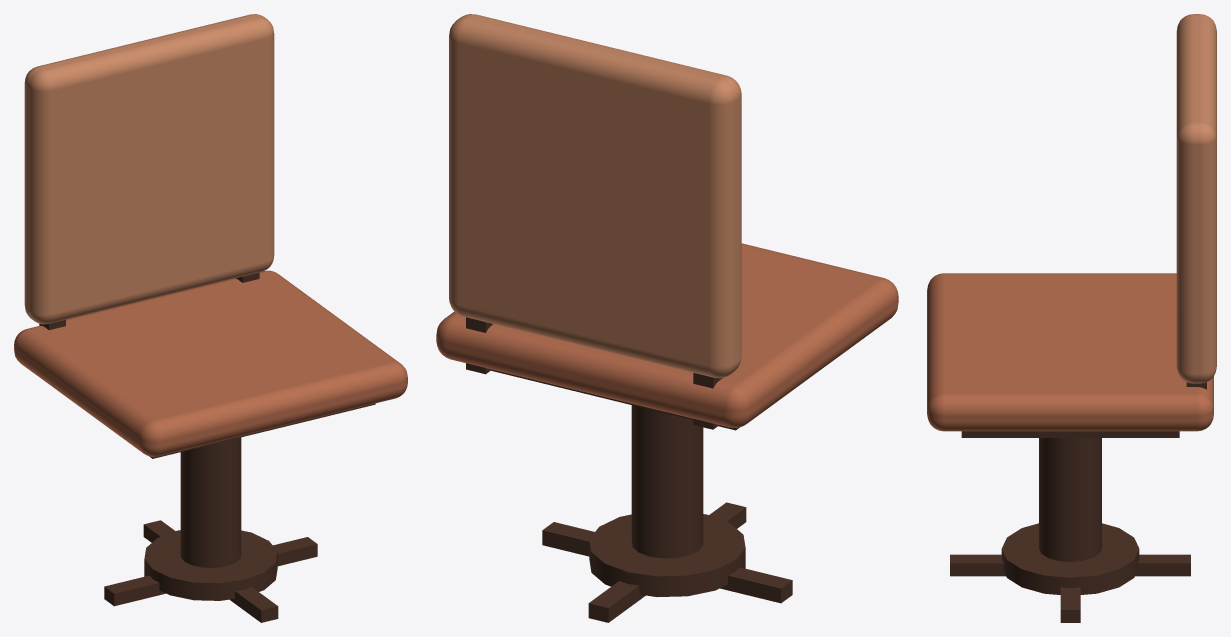
3 views of the same model, side by side, from view 1: azimuth 30°, elevation 25°; view 2: azimuth 150°, elevation 25°; view 3: azimuth 270°, elevation 25° (orthographic). The views are drawn at different scales.
Visible parts, largest first — view 1: chair-back, chair-seat, pedestal-column, pedestal-hub, pedestal-foot-front, pedestal-foot-right; view 2: chair-back, chair-seat, pedestal-column, pedestal-hub, pedestal-foot-front, pedestal-foot-right; view 3: chair-seat, chair-back, pedestal-column, pedestal-hub, pedestal-foot-right, seat-support-rail, pedestal-foot-front.
Boxes of the visible parts, <box> form: chair-back: <box>24,14,274,324</box>; chair-seat: <box>14,270,407,456</box>; pedestal-column: <box>180,437,241,567</box>; pedestal-hub: <box>144,530,277,600</box>; pedestal-foot-front: <box>104,537,317,606</box>; pedestal-foot-right: <box>143,520,278,622</box>; chair-back: <box>449,14,741,378</box>; chair-seat: <box>436,243,898,427</box>; pedestal-column: <box>631,405,703,558</box>; pedestal-hub: <box>589,514,745,597</box>; pedestal-foot-front: <box>542,522,792,603</box>; pedestal-foot-right: <box>588,502,746,622</box>; chair-seat: <box>927,273,1213,431</box>; chair-back: <box>1176,14,1216,383</box>; pedestal-column: <box>1039,438,1101,561</box>; pedestal-hub: <box>1001,523,1139,594</box>; pedestal-foot-right: <box>950,554,1190,576</box>; seat-support-rail: <box>961,431,1179,437</box>; pedestal-foot-front: <box>1060,587,1080,622</box>.
Size of the model in its own units: 0.55 by 0.98 by 0.505.
